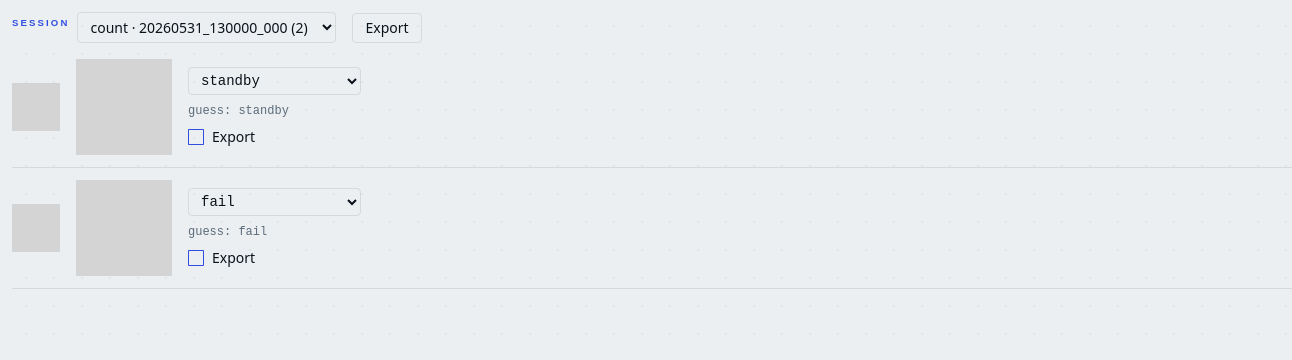
Test case: LabelPanel › shows the written sample filenames after exporting
Click the checkbox named "export frame 0" at (196, 137), box top-left (188, 129), bottom-right (204, 145)
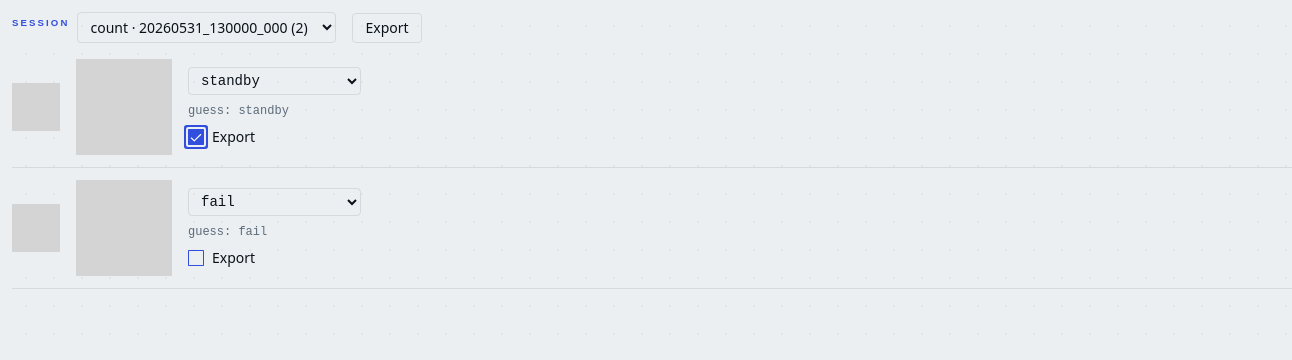
Click the button "Export" at (387, 28), box top-left (352, 12), bottom-right (422, 42)
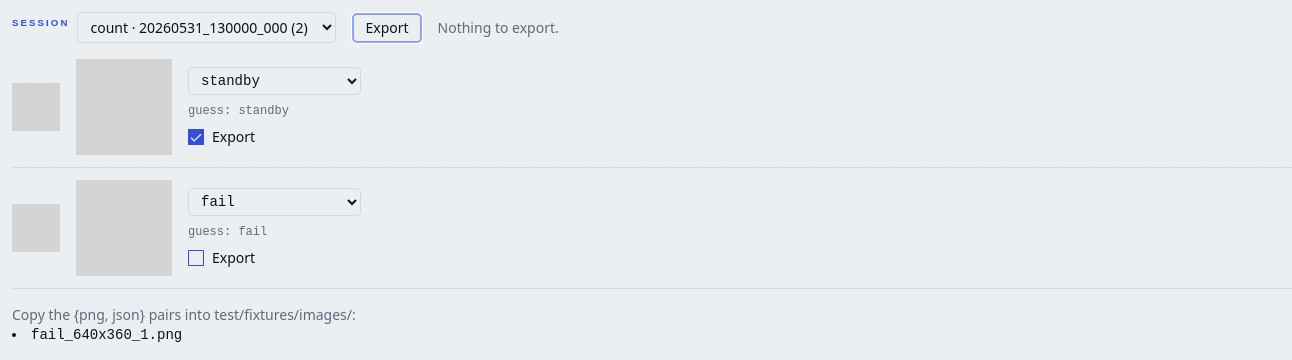
Expected: the list item "fail_640x360_1.png" is shown, top-left (31, 327), bottom-right (182, 343)
